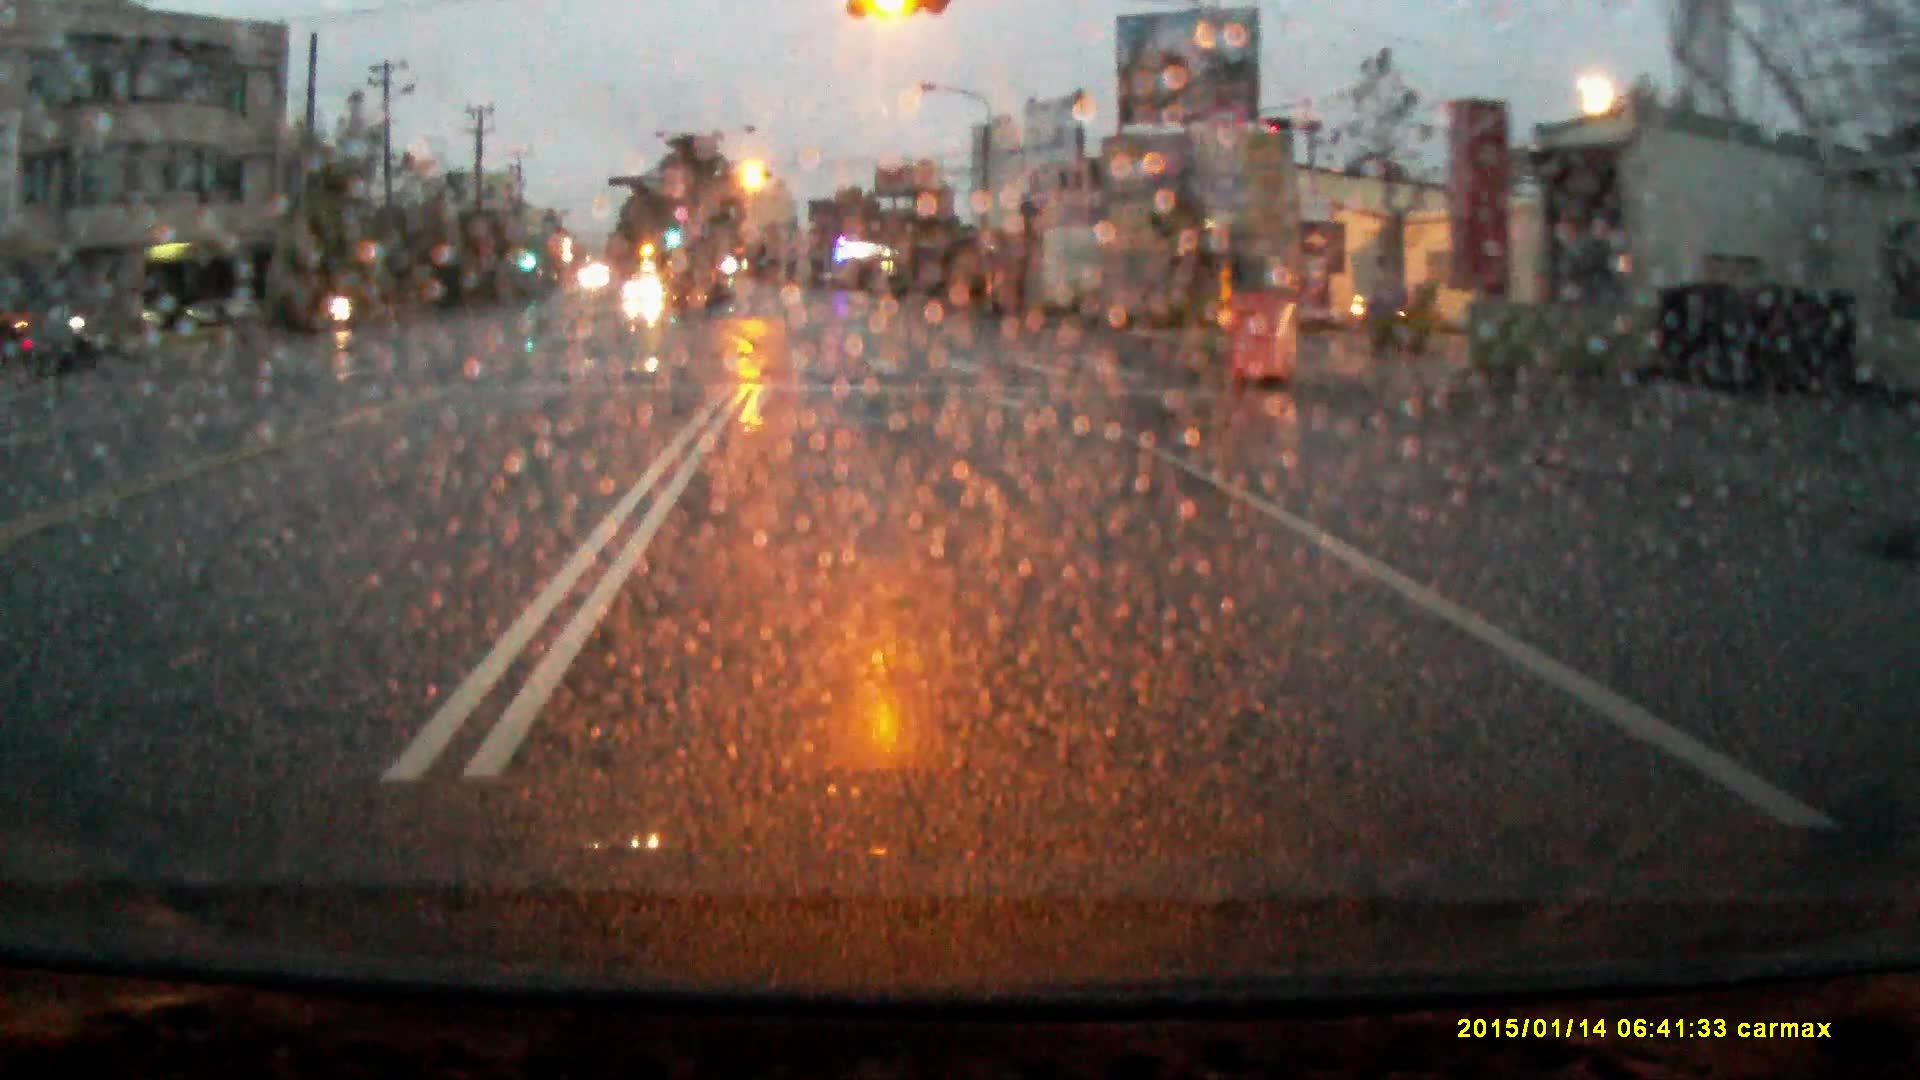rider: (328, 262, 359, 337)
vehicle: (624, 278, 666, 306)
